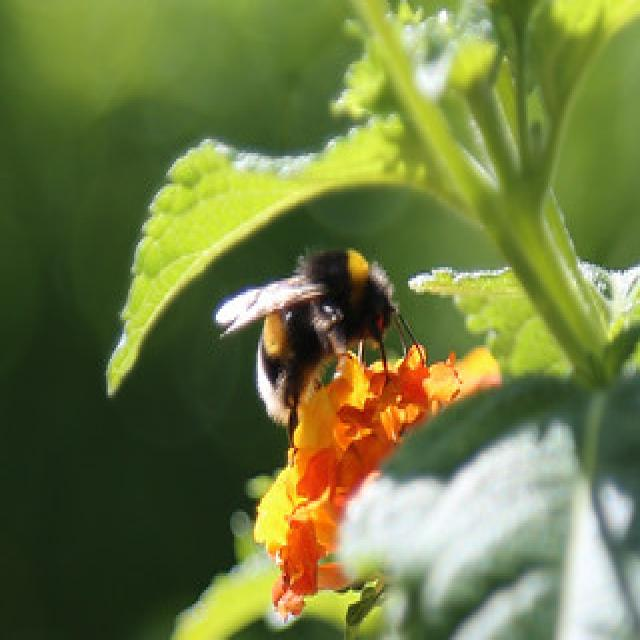Abeille: (208, 218, 451, 425)
